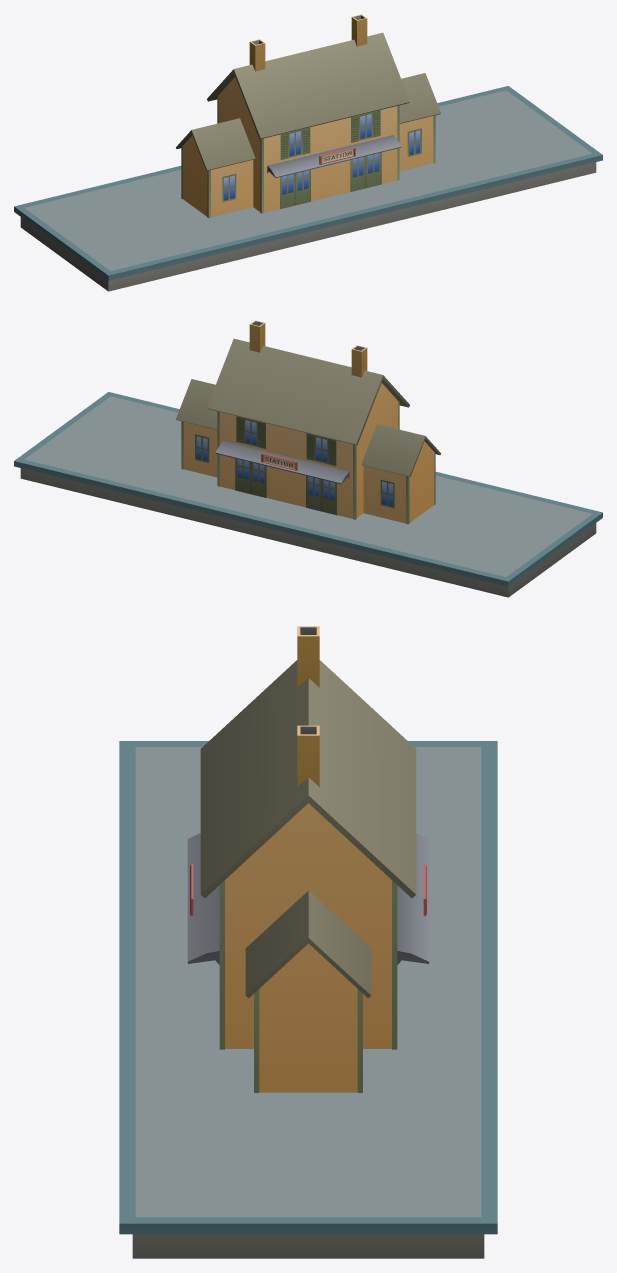
File: Train_Station_D.fbx
3 renders of one model, top to bottom at view 1: azimuth 30°, elevation 25°; view 2: azimuth 150°, elevation 25°; view 3: azimuth 270°, elevation 25°, orthographic. The views are drawn at different scales.
Visible parts, largest first — view 1: Train_Station_D; view 2: Train_Station_D; view 3: Train_Station_D.
Boxes of the visible parts, x1,y1,x2,y2 form: Train_Station_D: (14,14,602,291); Train_Station_D: (14,320,602,597); Train_Station_D: (119,626,497,1258).
Size of the model in its own units: 3624 by 1190 by 1200.
